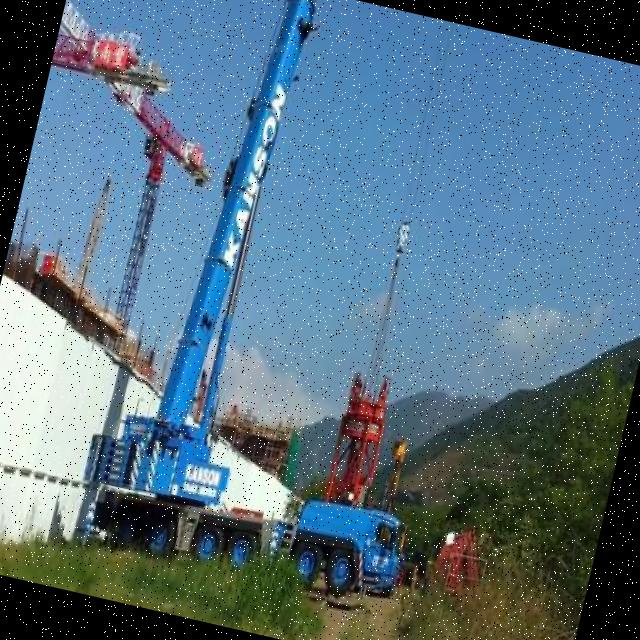Mobile Crane: (66, 0, 517, 602)
